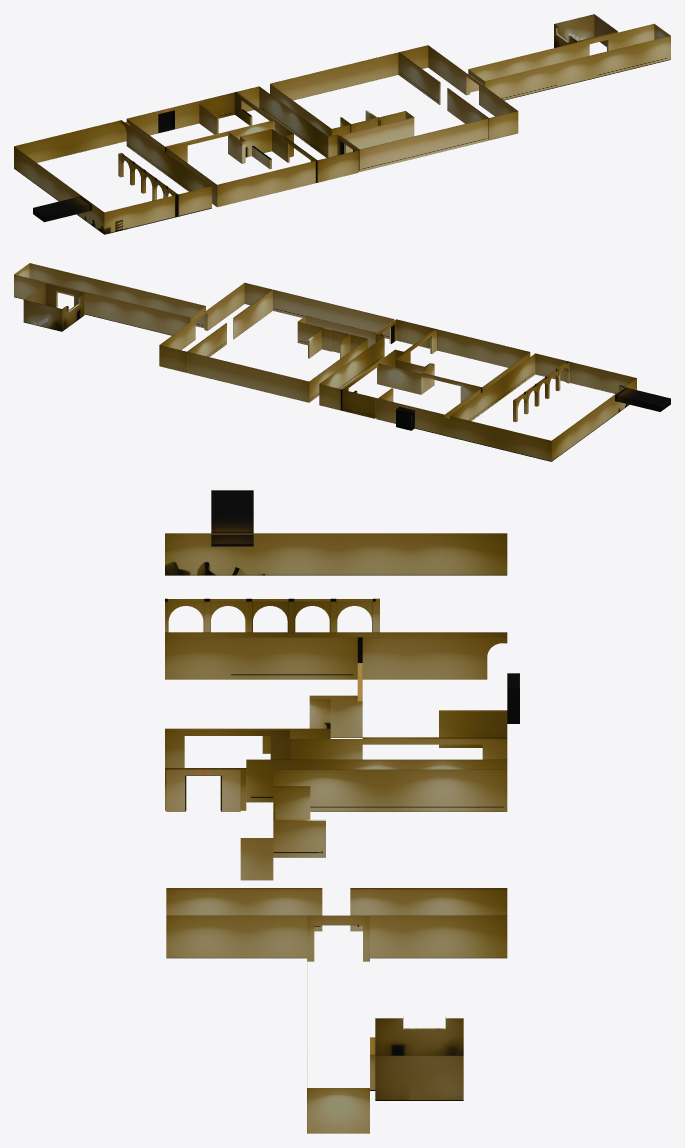
The model's file is Backrooms_Walls_AllSectors.obj.
The picture shows the model from 3 angles, top to bottom: view 1: azimuth 30°, elevation 25°; view 2: azimuth 150°, elevation 25°; view 3: azimuth 270°, elevation 25°; orthographic projection. The views are drawn at different scales.
Parts seen in each view (by area): view 1: Wall_Sector2_Yellow, Wall_Sector3_Yellow, Wall_Sector4_Yellow, Wall_Sector1_Yellow; view 2: Wall_Sector2_Yellow, Wall_Sector3_Yellow, Wall_Sector4_Yellow, Wall_Sector1_Yellow; view 3: Wall_Sector2_Yellow, Wall_Sector3_Yellow, Wall_Sector4_Yellow, Wall_Sector1_Yellow.
Part boxes in pixels (box(x1,y1,x2,y2)): Wall_Sector2_Yellow: box(270, 45, 518, 171); Wall_Sector3_Yellow: box(124, 86, 358, 207); Wall_Sector4_Yellow: box(14, 120, 211, 234); Wall_Sector1_Yellow: box(468, 14, 670, 100); Wall_Sector2_Yellow: box(159, 282, 394, 402); Wall_Sector3_Yellow: box(319, 319, 530, 436); Wall_Sector4_Yellow: box(447, 353, 670, 461); Wall_Sector1_Yellow: box(14, 263, 205, 335); Wall_Sector2_Yellow: box(166, 769, 507, 958); Wall_Sector3_Yellow: box(165, 637, 519, 810); Wall_Sector4_Yellow: box(165, 490, 507, 637); Wall_Sector1_Yellow: box(307, 916, 463, 1133).
Size of the model in its own units: 8153 by 288 by 2031.
Materials: 5 (5 with a texture image).
